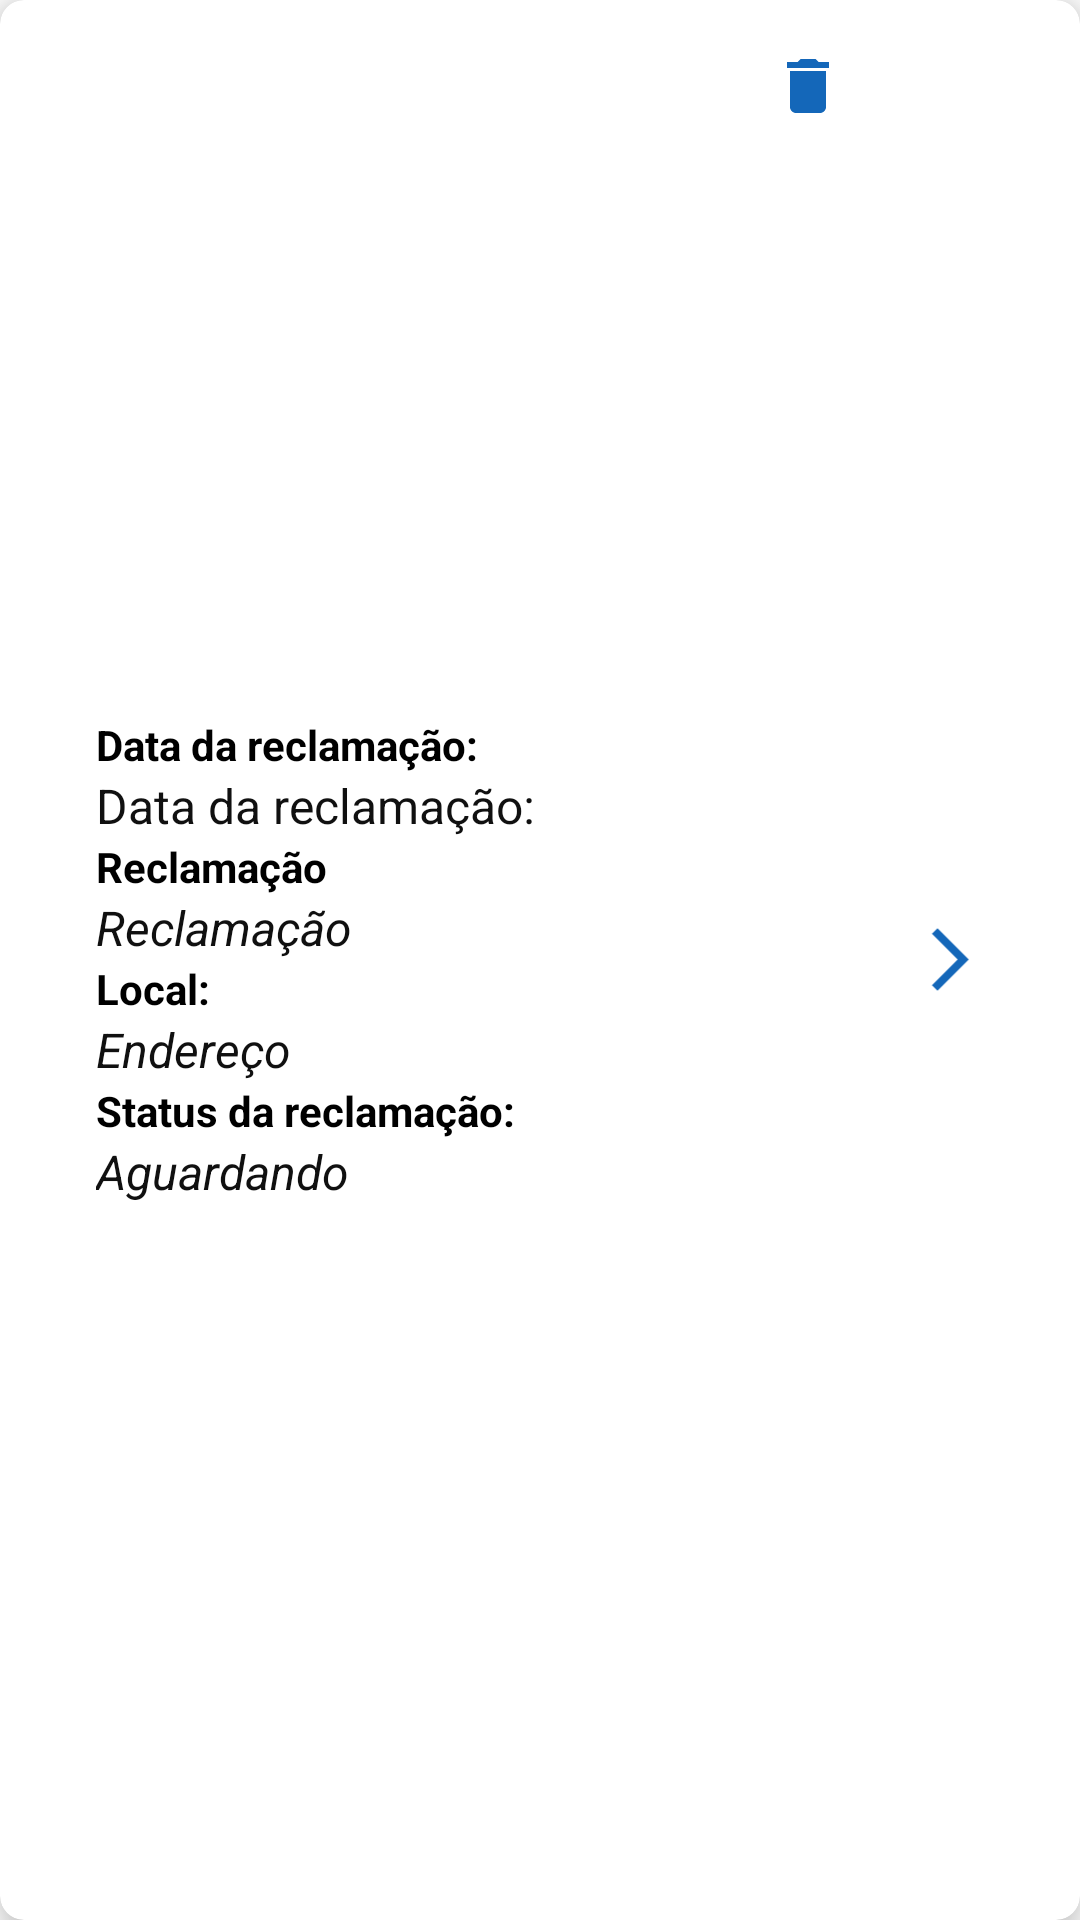

Locate icon controls on the screen. Image size 1080px x 1920px, boxes as (x1, y1, x2, y2).
delete: (787, 59, 829, 113)
seta aberta direita: (931, 928, 969, 991)
